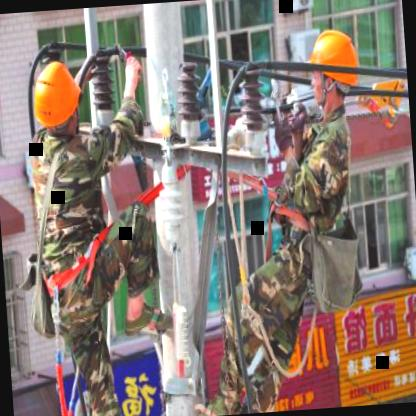helmet: (300, 19, 366, 118), (26, 54, 85, 139)
